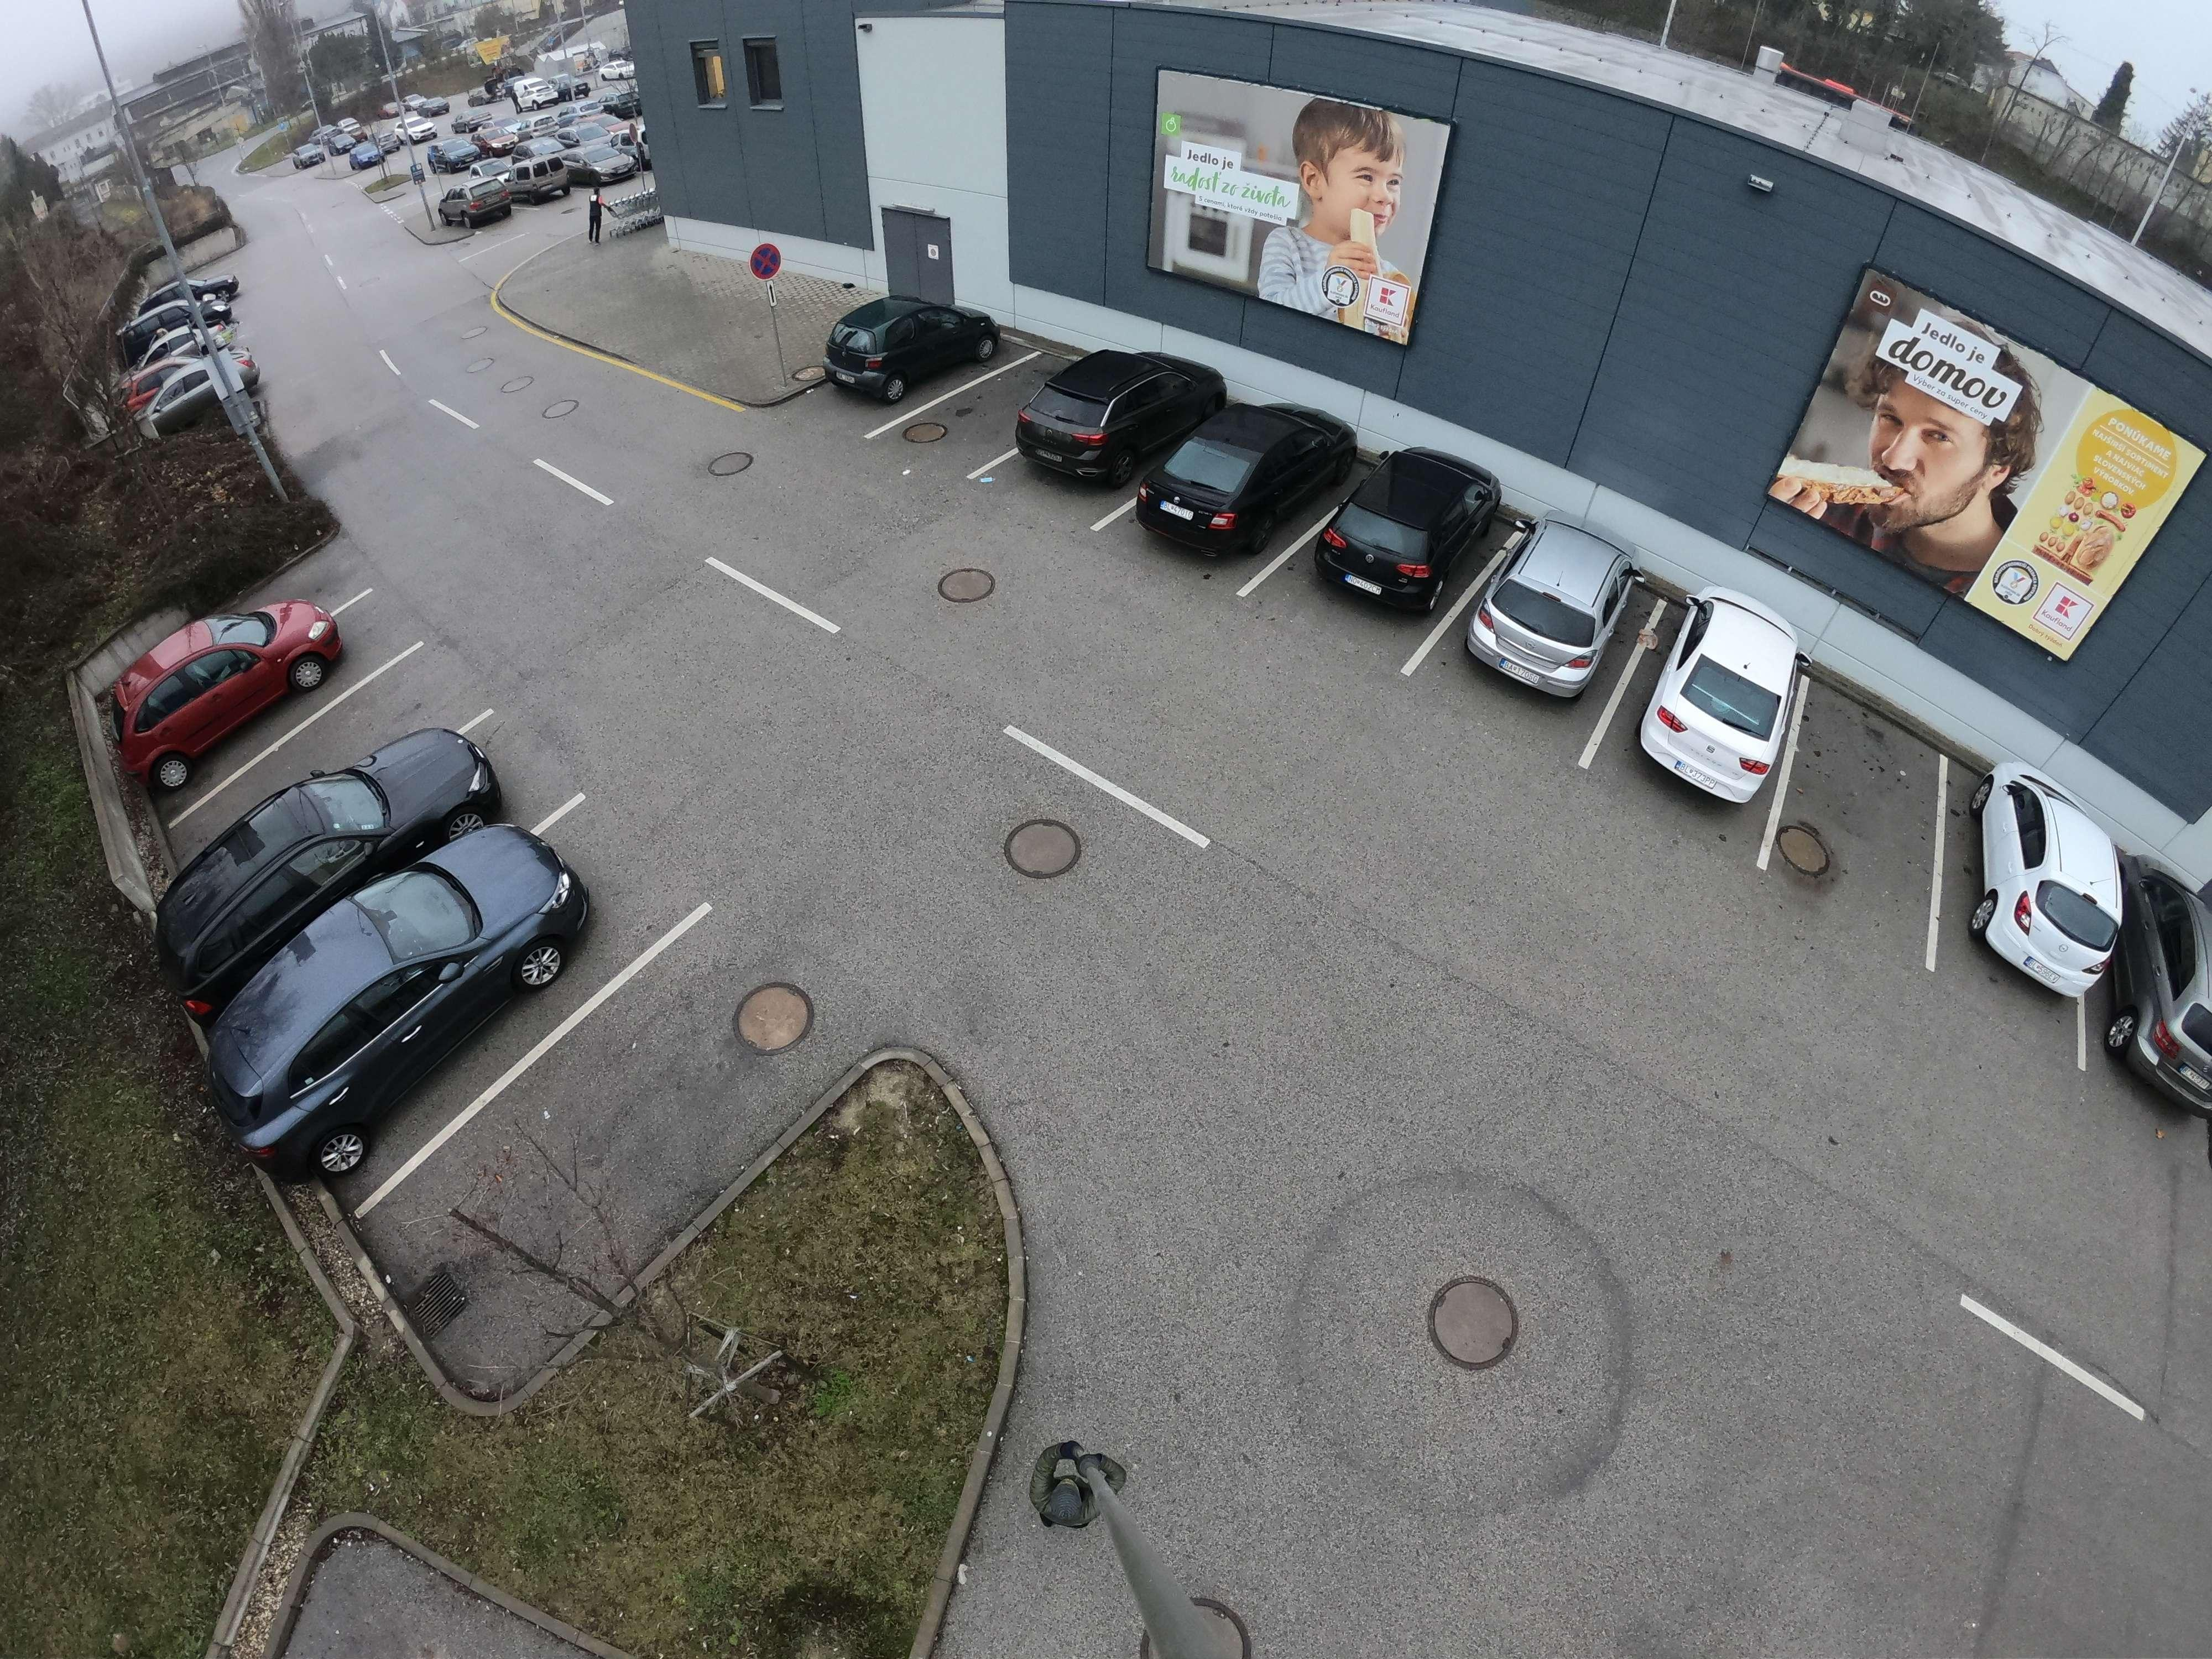empty: (216, 836, 615, 1129), (183, 746, 495, 945), (1949, 765, 2155, 1012), (1634, 579, 1820, 828), (96, 594, 329, 767), (1461, 502, 1648, 706), (1308, 434, 1507, 612), (1144, 394, 1345, 559), (1005, 349, 1200, 484), (2116, 868, 2212, 1100), (824, 303, 1000, 410), (125, 349, 272, 439), (434, 160, 538, 227), (590, 176, 676, 239), (425, 131, 486, 176)
occupied: (524, 1044, 768, 1204), (1789, 732, 1935, 871), (254, 697, 415, 774), (932, 364, 1042, 458)
